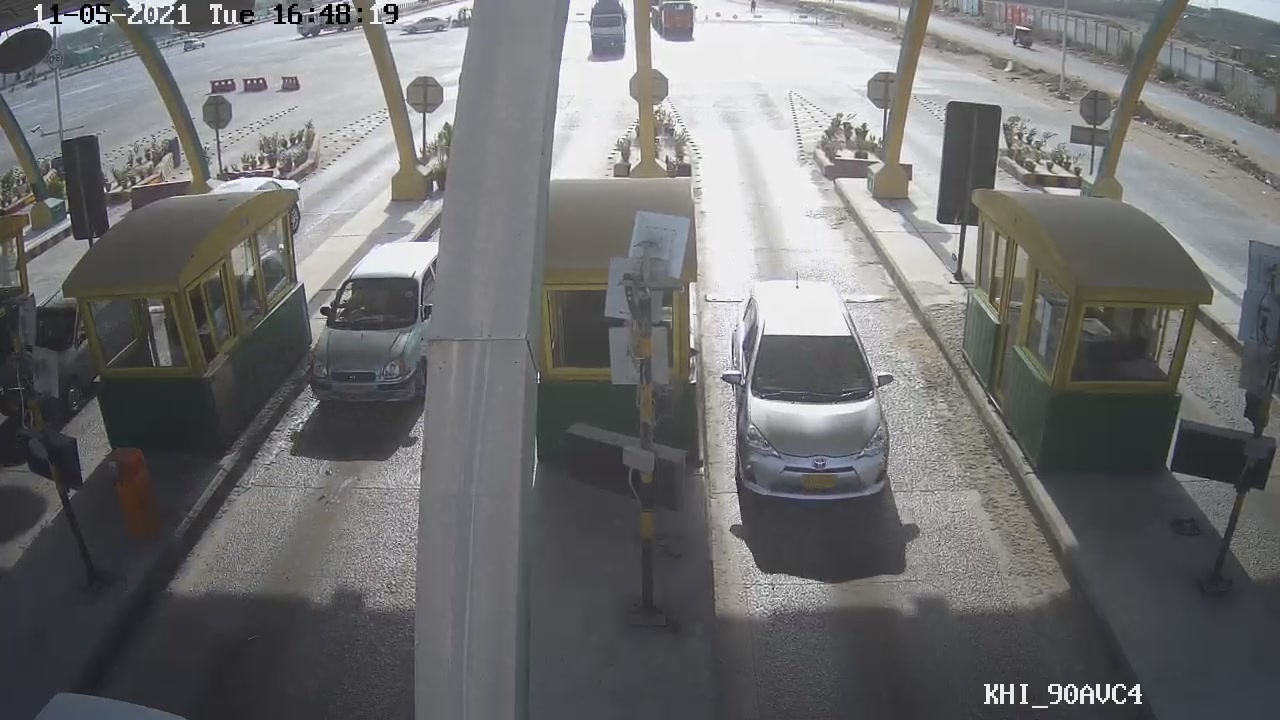F1: (714, 270, 904, 512)
